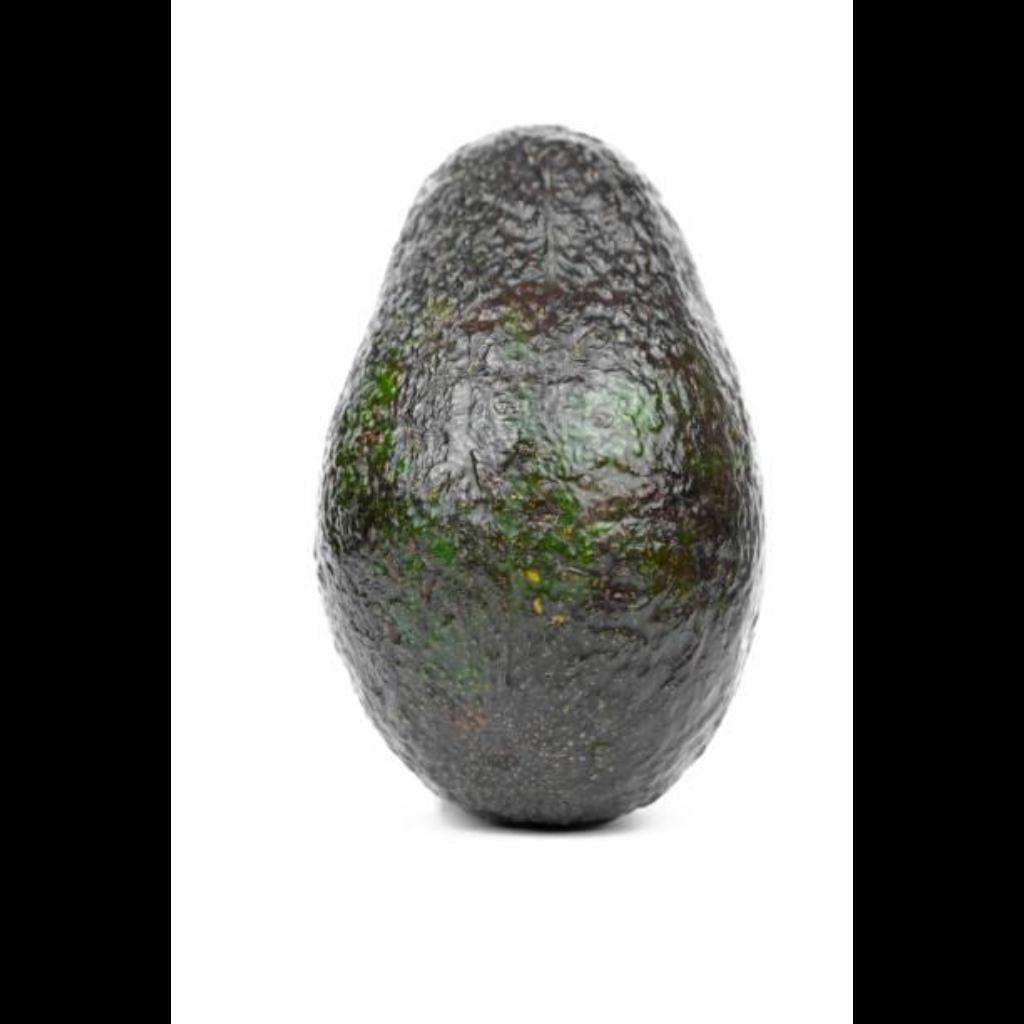antracnosis_fruto: (322, 115, 759, 824)
